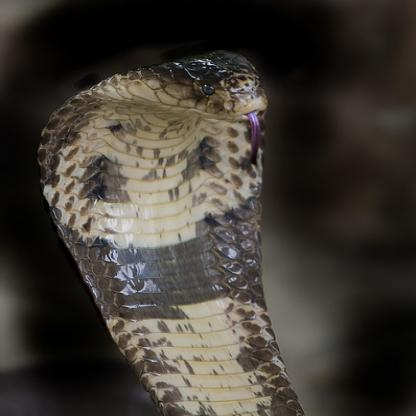snakes: (35, 48, 307, 416)
